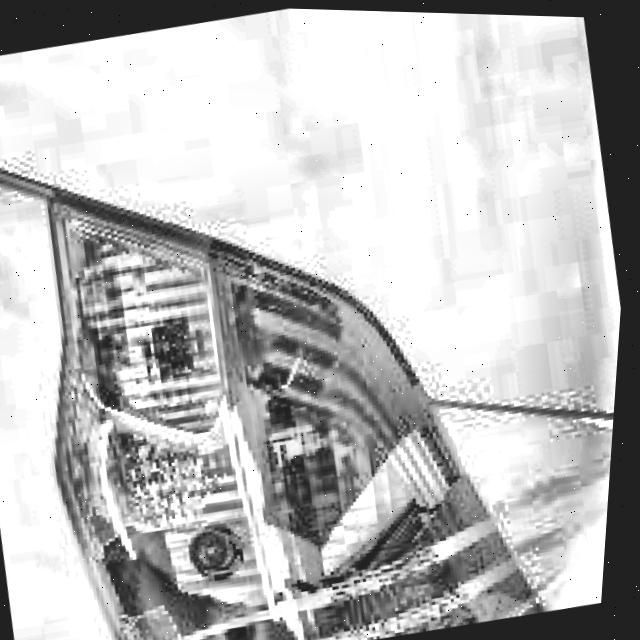tail_lamp: (83, 394, 476, 640)
